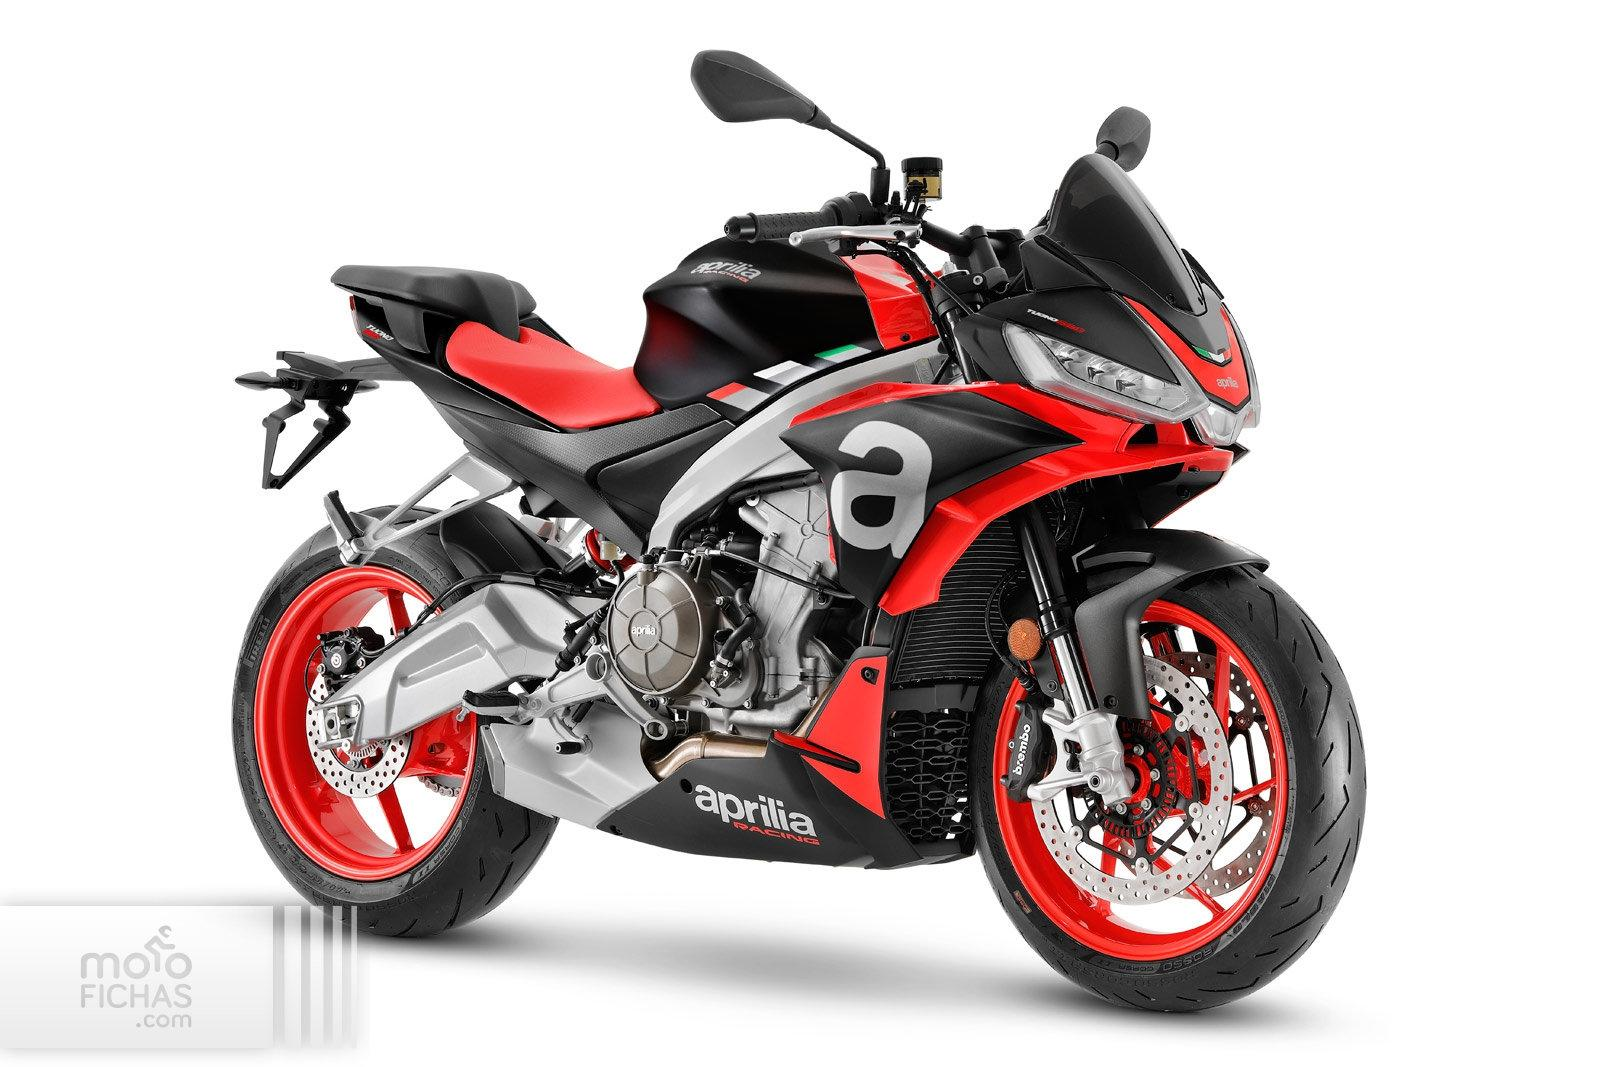engine-chasis: (455, 472, 983, 871)
exhaust: (480, 699, 768, 828)
frontside: (648, 154, 1270, 810)
handlebar: (690, 50, 1027, 301), (1093, 106, 1150, 171)
motorbike: (233, 50, 1363, 1007)
rearside: (235, 289, 738, 569), (312, 582, 610, 753), (438, 503, 574, 579), (520, 313, 575, 348)
seat: (445, 322, 664, 431), (330, 266, 537, 343)
tank: (633, 236, 937, 425)
watermark: (0, 903, 360, 1055)
wheel: (969, 566, 1367, 1011), (231, 522, 562, 937), (890, 245, 958, 366), (985, 559, 1037, 697), (899, 244, 975, 316), (464, 573, 615, 599), (1042, 486, 1073, 545)
